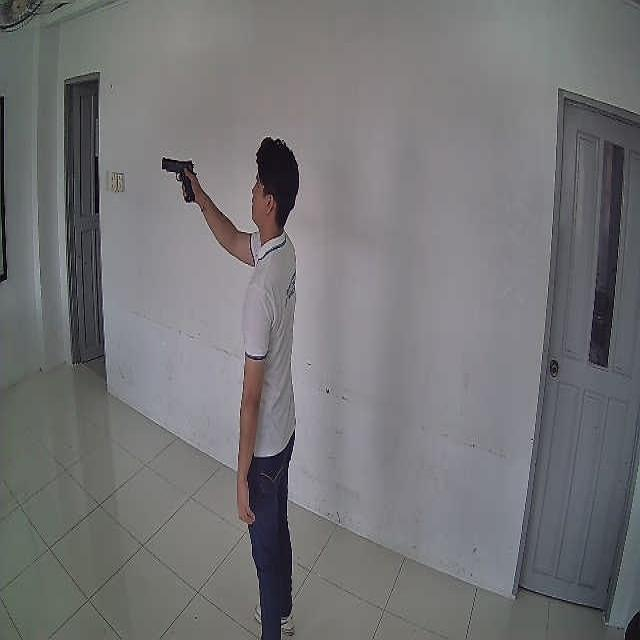pistol: (162, 157, 195, 200)
